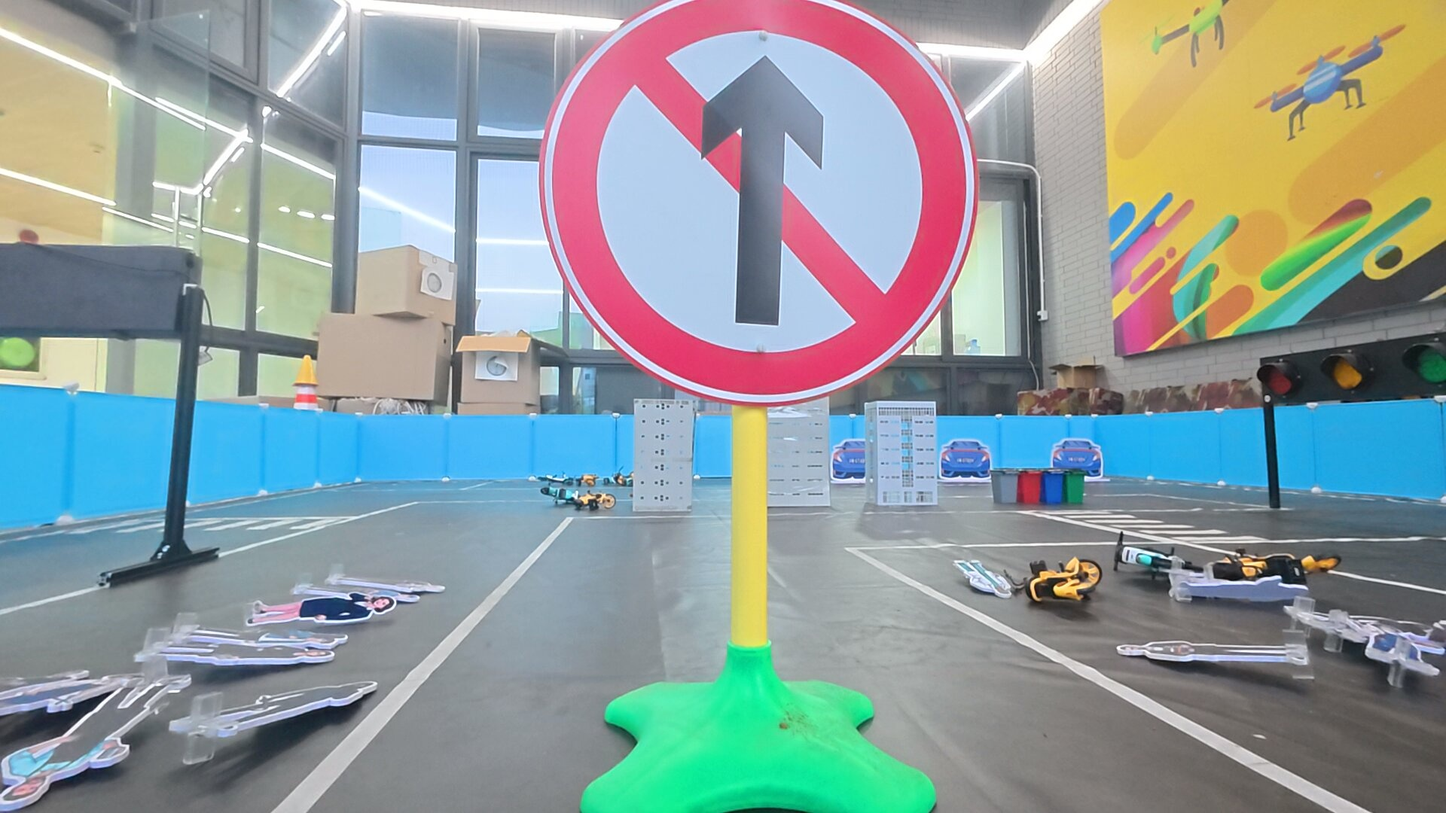obstacle: (537, 0, 978, 409)
